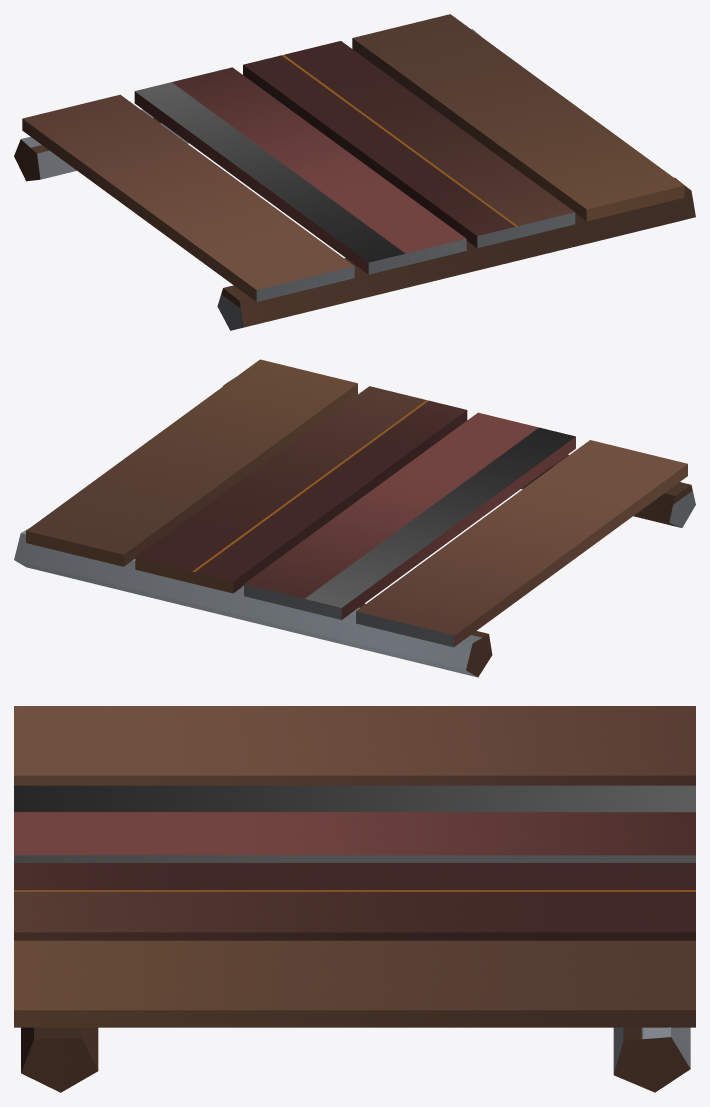
File: drawBridgeShort.fbx
3 views of the same model, one above another, from view 1: azimuth 30°, elevation 25°; view 2: azimuth 150°, elevation 25°; view 3: azimuth 270°, elevation 25° (orthographic). The views are drawn at different scales.
Parts seen in each view (by area): view 1: BridgeTwoPiece3; view 2: BridgeTwoPiece3; view 3: BridgeTwoPiece3.
Part boxes in pixels (x1,y1,x2,y2): BridgeTwoPiece3: (14, 14, 695, 330); BridgeTwoPiece3: (14, 359, 695, 677); BridgeTwoPiece3: (14, 706, 695, 1092).
Size of the model in its own units: 6.35 by 0.6728 by 5.7.
1 material, 1 textured.
